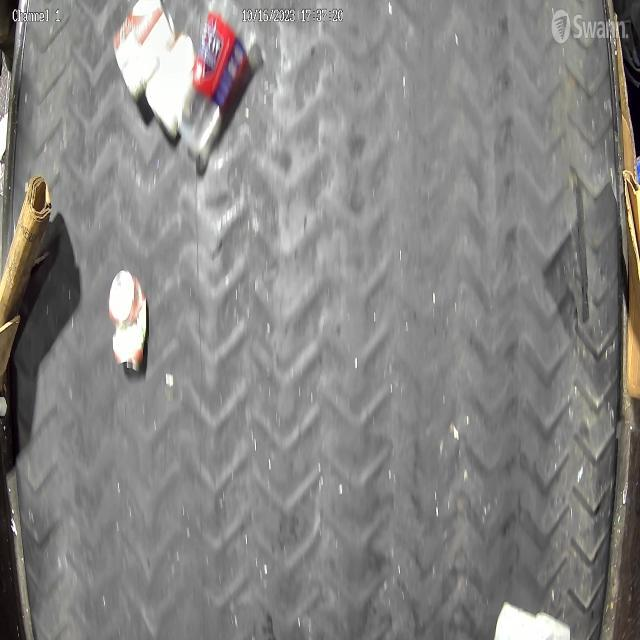can: (112, 3, 176, 101), (106, 260, 147, 371)
